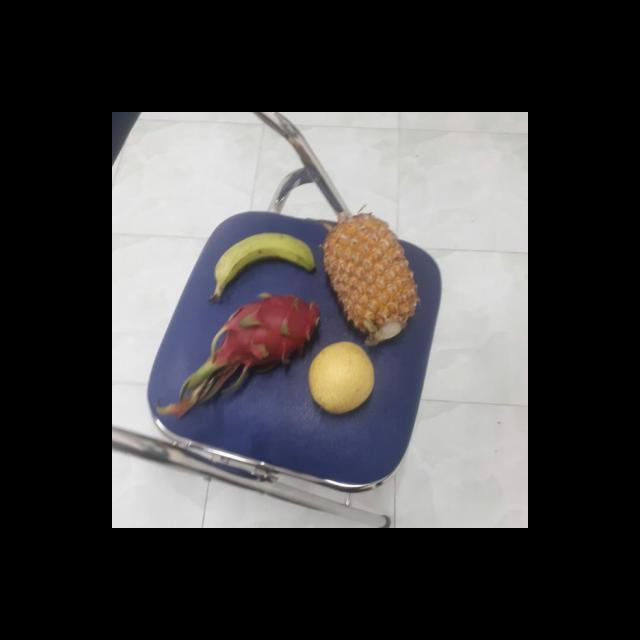banana: (212, 231, 317, 298)
pear: (306, 344, 378, 414)
pineapple: (324, 214, 420, 346)
pitaya: (215, 293, 328, 379)
